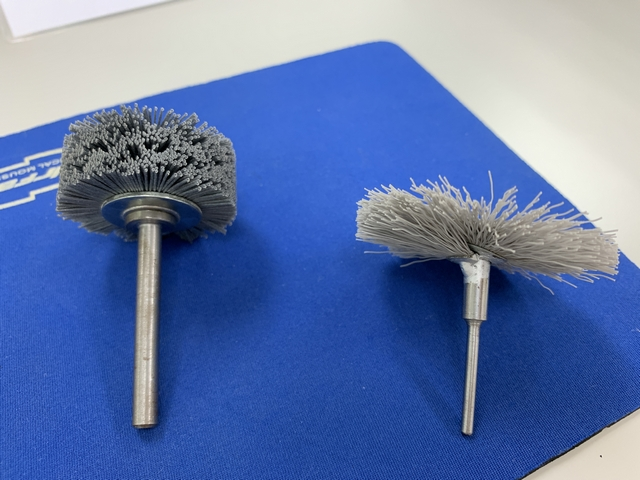TOOL: (348, 164, 610, 445), (416, 168, 595, 413)
Wheel Brush: (57, 105, 246, 450), (114, 107, 246, 387), (83, 105, 248, 302)
